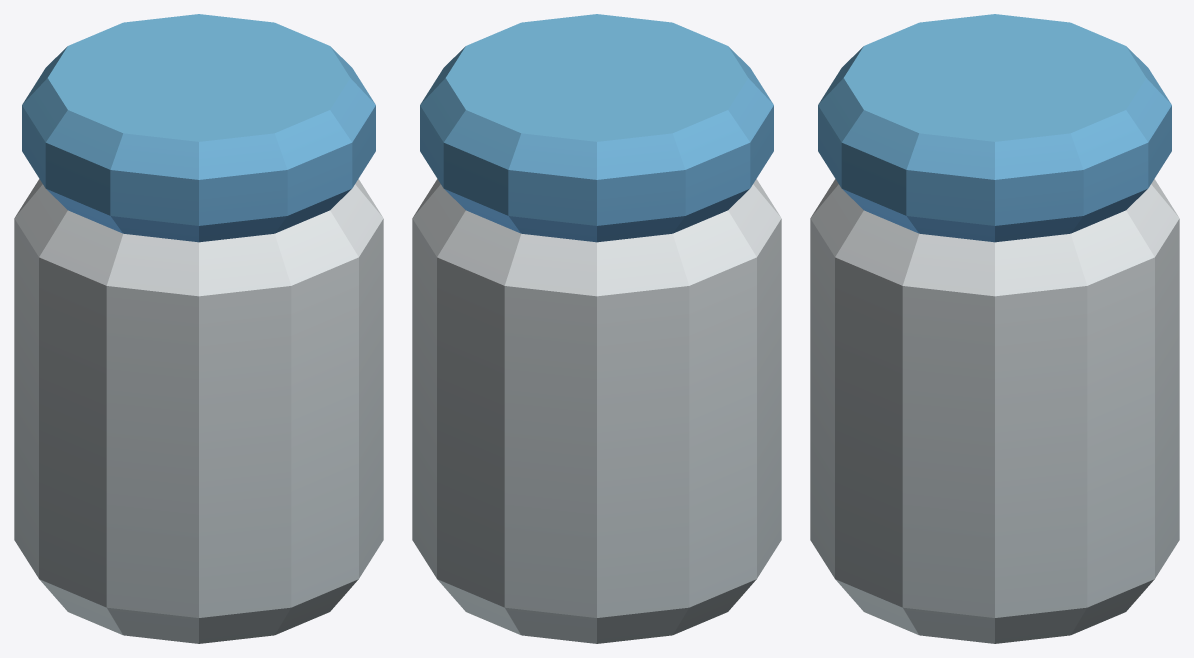
Rendered from Jar.obj.
The picture shows the model from 3 angles, left to right: view 1: azimuth 30°, elevation 25°; view 2: azimuth 150°, elevation 25°; view 3: azimuth 270°, elevation 25°; orthographic projection.
Parts seen in each view (by area): view 1: Cylinder.257; view 2: Cylinder.257; view 3: Cylinder.257.
Part boxes in pixels (left/top/right/bottom): Cylinder.257: left=14, top=14, right=383, bottom=643; Cylinder.257: left=412, top=14, right=781, bottom=643; Cylinder.257: left=810, top=14, right=1179, bottom=643.
Bounding box in the file's own units: 0.5 × 0.75 × 0.5.
Materials: 1 (1 with a texture image).
